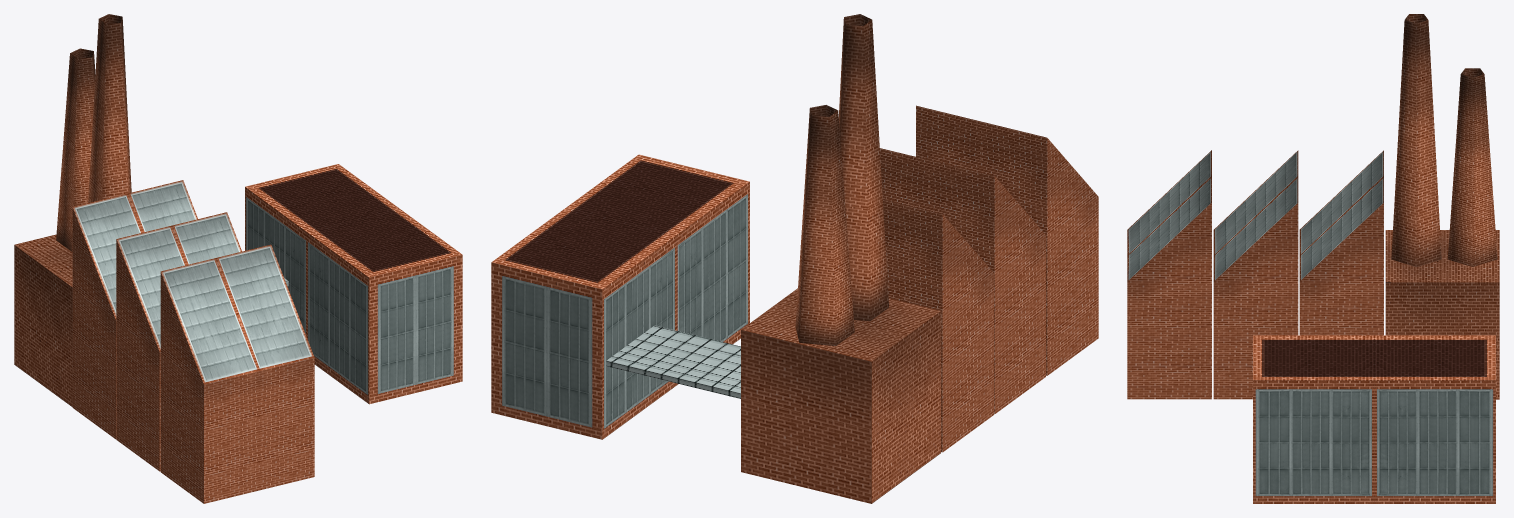
File: Factory.FBX
3 renders of one model, left to right at view 1: azimuth 30°, elevation 25°; view 2: azimuth 150°, elevation 25°; view 3: azimuth 270°, elevation 25°, orthographic. The views are drawn at different scales.
Parts seen in each view (by area): view 1: Box018; view 2: Box018; view 3: Box018.
Boxes of the visible parts, x1,y1,x2,y2 form: Box018: (14,14,462,503); Box018: (491,14,1098,503); Box018: (1127,14,1499,503).
Size of the model in its own units: 104 by 113 by 106.
Materials: 1 (1 with a texture image).
